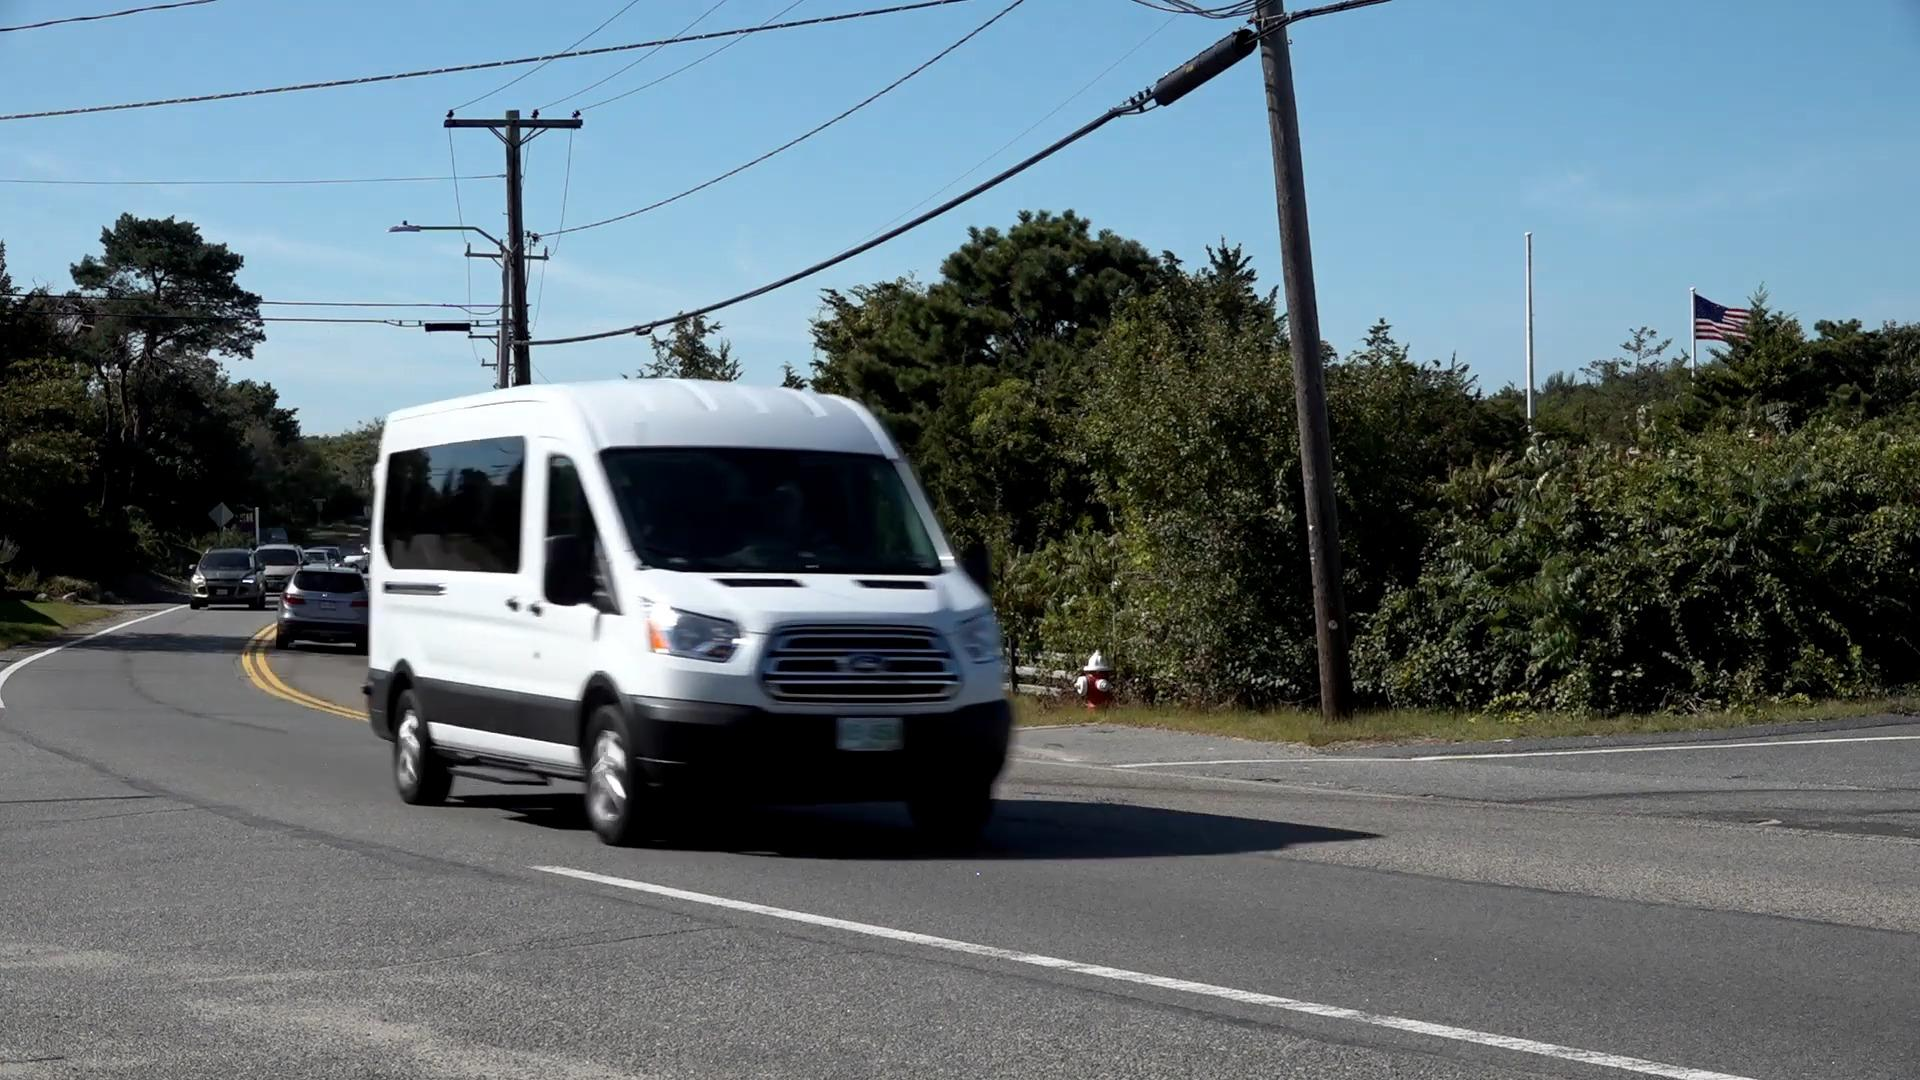minivan: (371, 384, 1021, 853)
suv: (274, 569, 369, 651), (190, 547, 263, 610)
